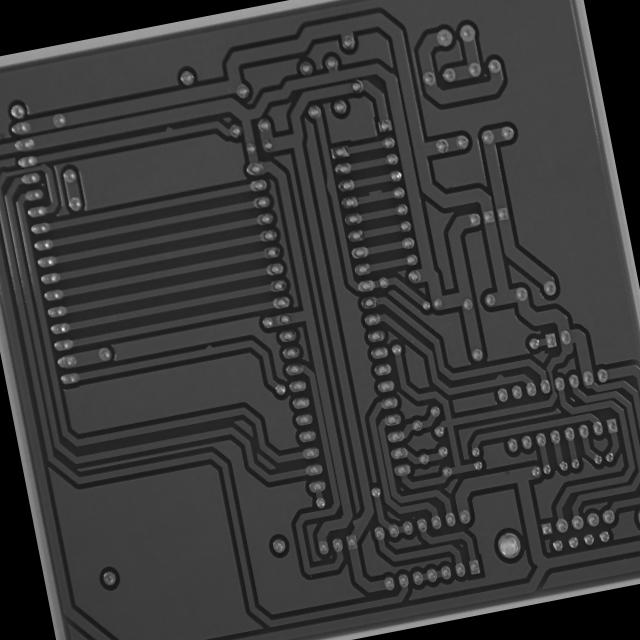spur: (322, 172, 338, 200), (363, 184, 387, 201), (199, 339, 217, 357), (492, 369, 509, 384), (159, 122, 177, 136)
